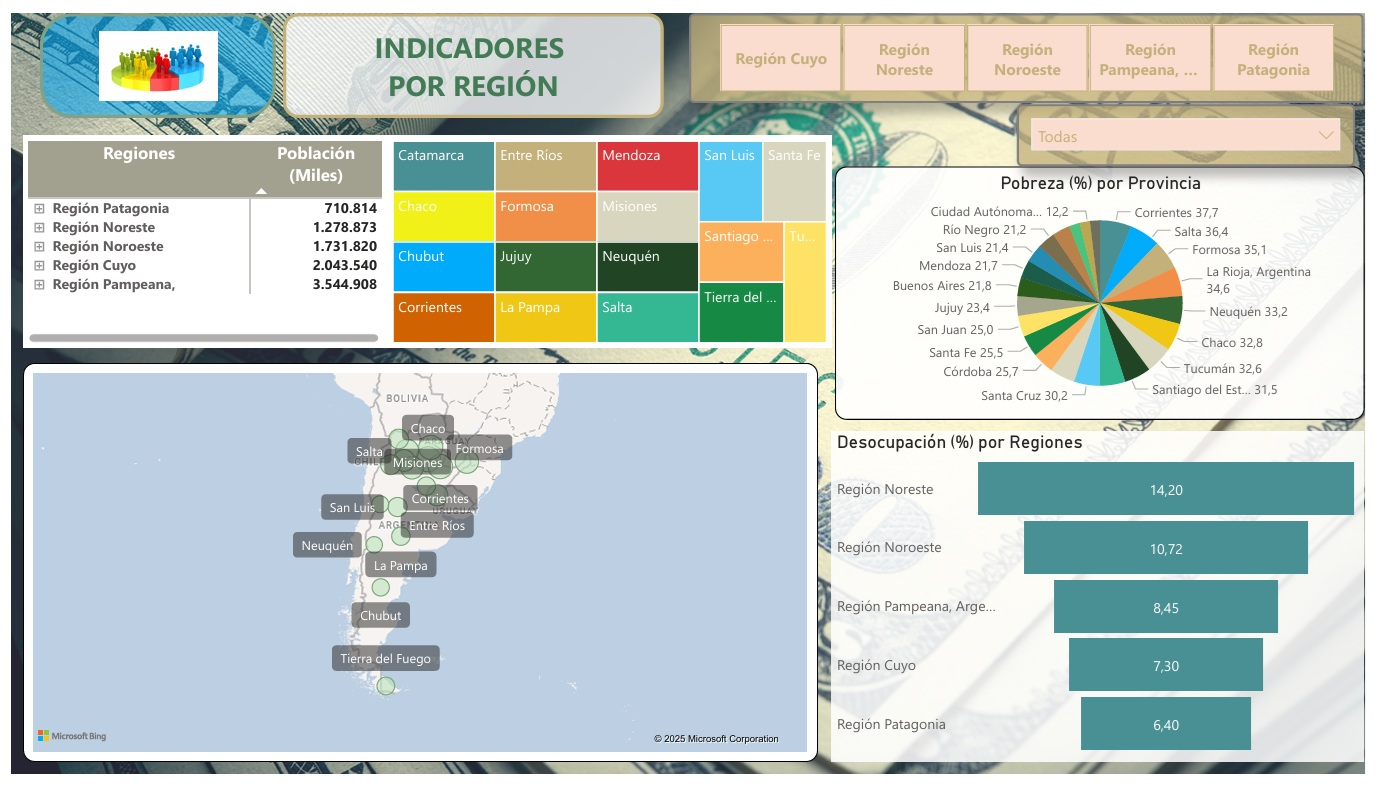

What the dashboard file says about the page in this screenshot:
{"tool":"powerbi","page":{"name":"Indicadores por Región","canvas":[1280,720],"ordinal":1},"visuals":[{"type":"pivotTable","fields":{"Rows":["Regiones.Regiones","Población.Provincia"],"Values":["Max(Población.Población (2022))"]},"box":[11.1,116.1,343.6,200.4],"z":0},{"type":"treemap","fields":{"Values":["CountNonNull(Población.Población (2022))"],"Group":["Regiones.Provincias"]},"box":[356.3,116.1,419.9,200.4],"z":1000},{"type":"slicer","fields":{"Values":["Regiones.Regiones"]},"box":[640.6,0,638.9,85],"z":2000},{"type":"map","fields":{"Category":["Regiones.Provincias"],"Size":["Avg(DesocPobreza.Desocupación (%))"]},"box":[11.1,330.8,752.4,378.6],"z":3000},{"type":"textbox","box":[256.6,0,360.2,98.5],"z":4000},{"type":"image","box":[27.2,0,222.6,98.5],"z":5000},{"type":"pieChart","fields":{"Y":["Avg(DesocPobreza.Pobreza (%))"],"Category":["Desoc/Pobreza- Provincias.Provincia"]},"box":[779.4,144.7,501,240.2],"z":6000},{"type":"slicer","fields":{"Values":["Regiones.Provincias"]},"box":[951.2,85.9,319.7,58.9],"z":7000},{"type":"funnel","fields":{"Category":["Regiones.Regiones"],"Y":["Avg(DesocPobreza.Desocupación (%))"]},"box":[776.2,396.1,504.2,313.4],"z":8001}]}

Visuals, with their boxes in screenshot pixels (x1, y1, x2, y2), scaled from the page's 1280x720 canvas onto the 1381x789 screenshot:
pivotTable - Regiones.Regiones x Población.Provincia: BBox(12, 127, 383, 347)
treemap - CountNonNull(Población.Población (2022)) x Regiones.Provincias: BBox(384, 127, 837, 347)
slicer - Regiones.Regiones: BBox(691, 0, 1380, 93)
map - Regiones.Provincias x Avg(DesocPobreza.Desocupación (%)): BBox(12, 363, 824, 777)
textbox: BBox(277, 0, 665, 108)
image: BBox(29, 0, 270, 108)
pieChart - Avg(DesocPobreza.Pobreza (%)) x Desoc/Pobreza- Provincias.Provincia: BBox(841, 159, 1380, 422)
slicer - Regiones.Provincias: BBox(1026, 94, 1371, 159)
funnel - Regiones.Regiones x Avg(DesocPobreza.Desocupación (%)): BBox(837, 434, 1380, 777)
